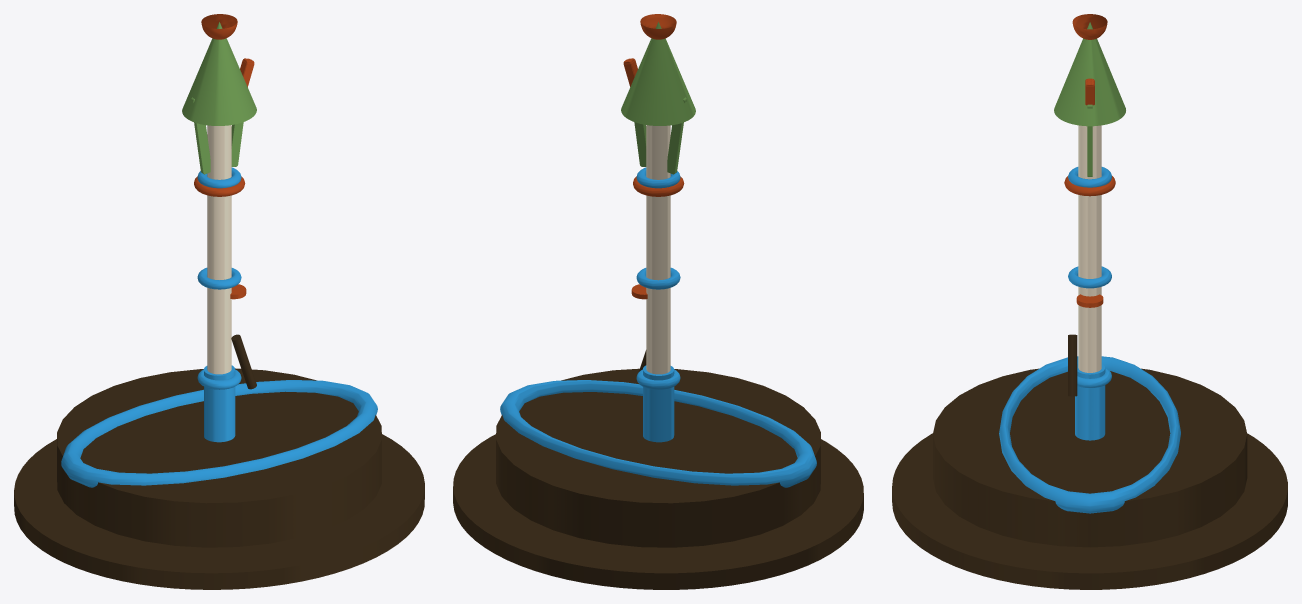
File: 0201_生活中的物理图鉴_握力计.glb
3 renders of one model, left to right at view 1: azimuth 30°, elevation 25°; view 2: azimuth 150°, elevation 25°; view 3: azimuth 270°, elevation 25°, orthographic.
Visible parts, largest first — view 1: card_0201; view 2: card_0201; view 3: card_0201.
Part boxes in pixels (bbox=[...]): card_0201: bbox=[14, 14, 424, 589]; card_0201: bbox=[453, 14, 863, 589]; card_0201: bbox=[892, 14, 1287, 589].
Size of the model in its own units: 0.7777 by 1 by 0.7454.
